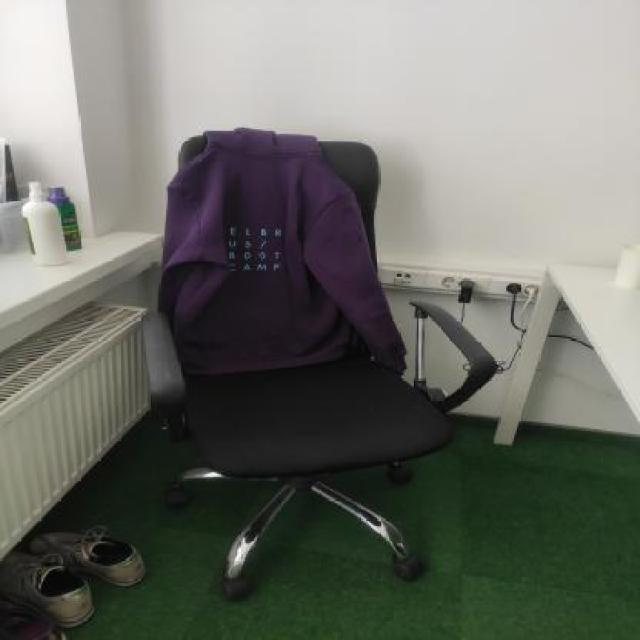chair: (122, 117, 507, 597)
